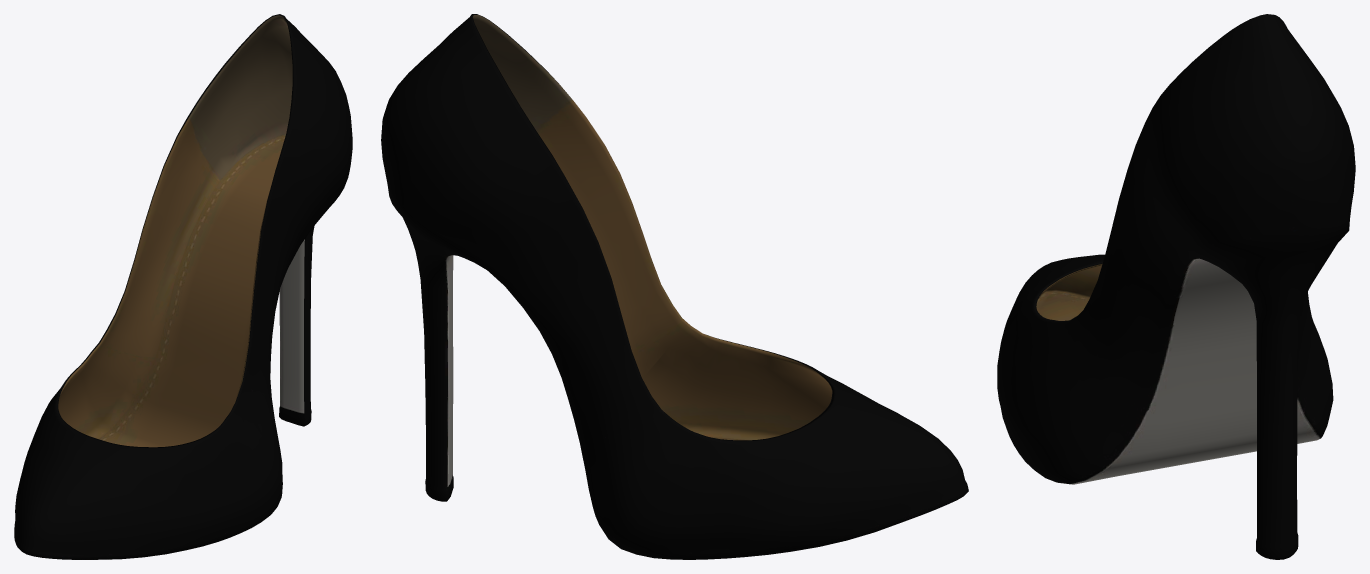
The model's file is highheel.fbx.
The picture shows the model from 3 angles, left to right: view 1: azimuth 30°, elevation 25°; view 2: azimuth 150°, elevation 25°; view 3: azimuth 270°, elevation 25°; orthographic projection. The views are drawn at different scales.
Visible parts, largest first — view 1: node_id34; view 2: node_id34; view 3: node_id34.
Part boxes in pixels (left/top/right/bottom): node_id34: left=14, top=14, right=352, bottom=559; node_id34: left=381, top=14, right=968, bottom=559; node_id34: left=997, top=14, right=1355, bottom=559.
Size of the model in its own units: 0.4544 by 0.4407 by 0.2717.
1 material, 1 textured.
